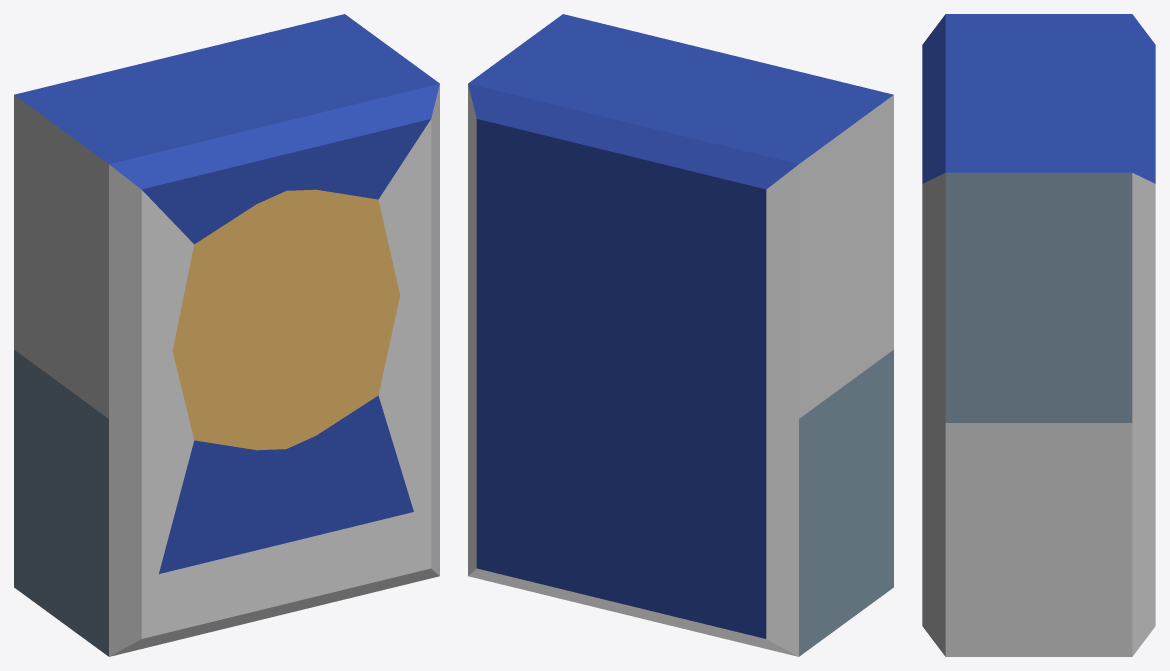
File: flour.fbx
The picture shows the model from 3 angles, left to right: view 1: azimuth 30°, elevation 25°; view 2: azimuth 150°, elevation 25°; view 3: azimuth 270°, elevation 25°; orthographic projection.
Visible parts, largest first — view 1: pCube4; view 2: pCube4; view 3: pCube4.
Part boxes in pixels (box(x1,y1,x2,y2)): pCube4: box(14, 14, 439, 656); pCube4: box(468, 14, 893, 656); pCube4: box(922, 14, 1155, 656).
Bounding box in the file's own units: 0.3831 × 0.5451 × 0.2383.
